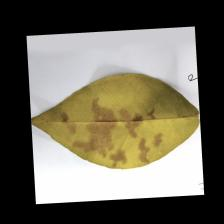canker: (55, 99, 166, 164)
